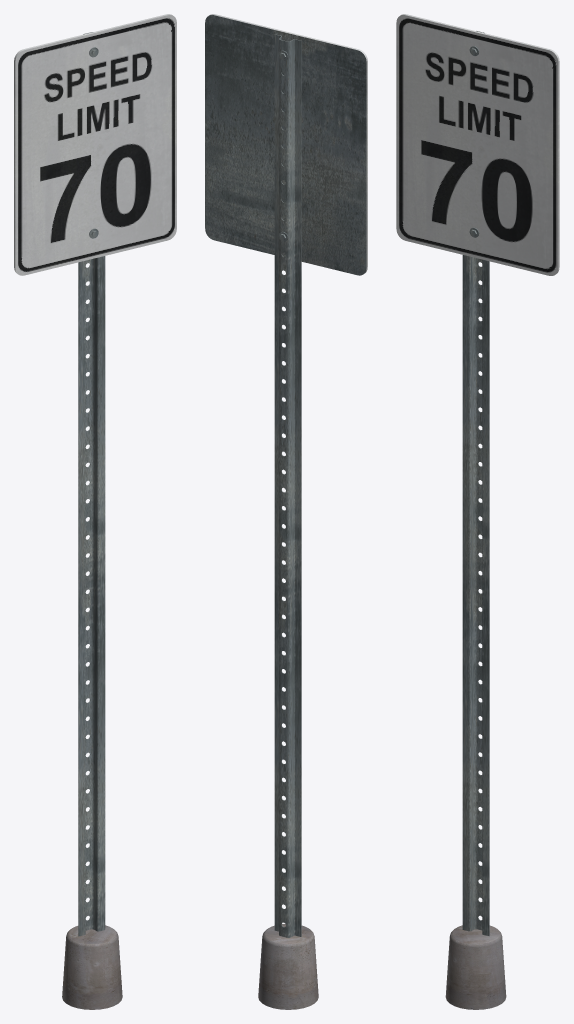
The model's file is speedlimit70_nsoc.obj.
3 renders of one model, left to right at view 1: azimuth 30°, elevation 25°; view 2: azimuth 150°, elevation 25°; view 3: azimuth 330°, elevation 25°, orthographic.
Visible parts, largest first — view 1: sign_speed_limit_70; view 2: sign_speed_limit_70; view 3: sign_speed_limit_70.
Boxes of the visible parts, bbox=[...] form: sign_speed_limit_70: bbox=[14, 14, 176, 1009]; sign_speed_limit_70: bbox=[205, 14, 367, 1009]; sign_speed_limit_70: bbox=[396, 14, 559, 1009].
Bounding box in the file's own units: 18 × 103 × 5.84.
Materials: 3 (3 with a texture image).
